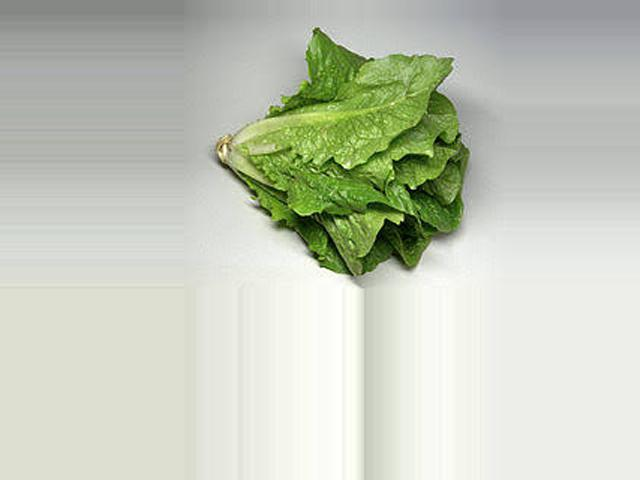lettuce: (201, 52, 481, 272)
